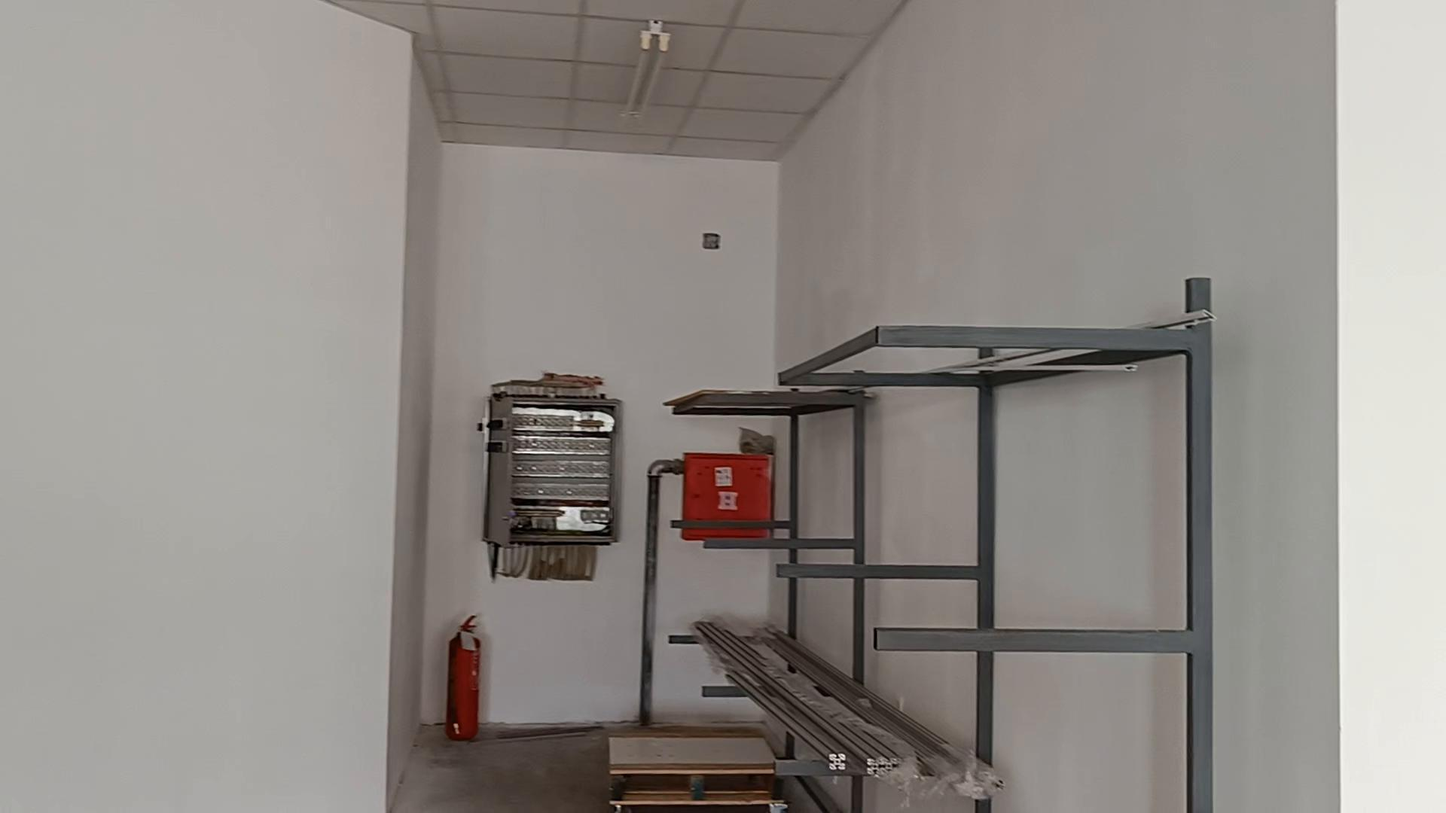ceiling: (329, 0, 907, 160)
floor: (391, 725, 618, 812)
wall: (778, 0, 1334, 812), (0, 0, 432, 812), (410, 146, 782, 690), (1336, 0, 1445, 812)
